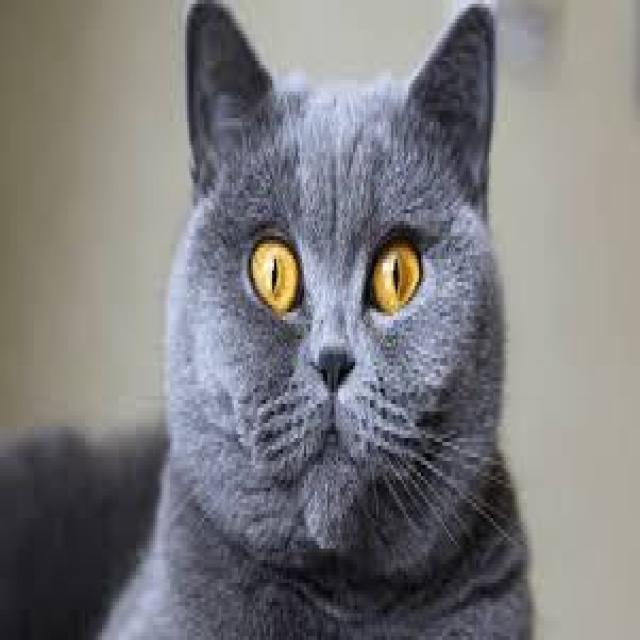british shorthair: (51, 19, 640, 629)
